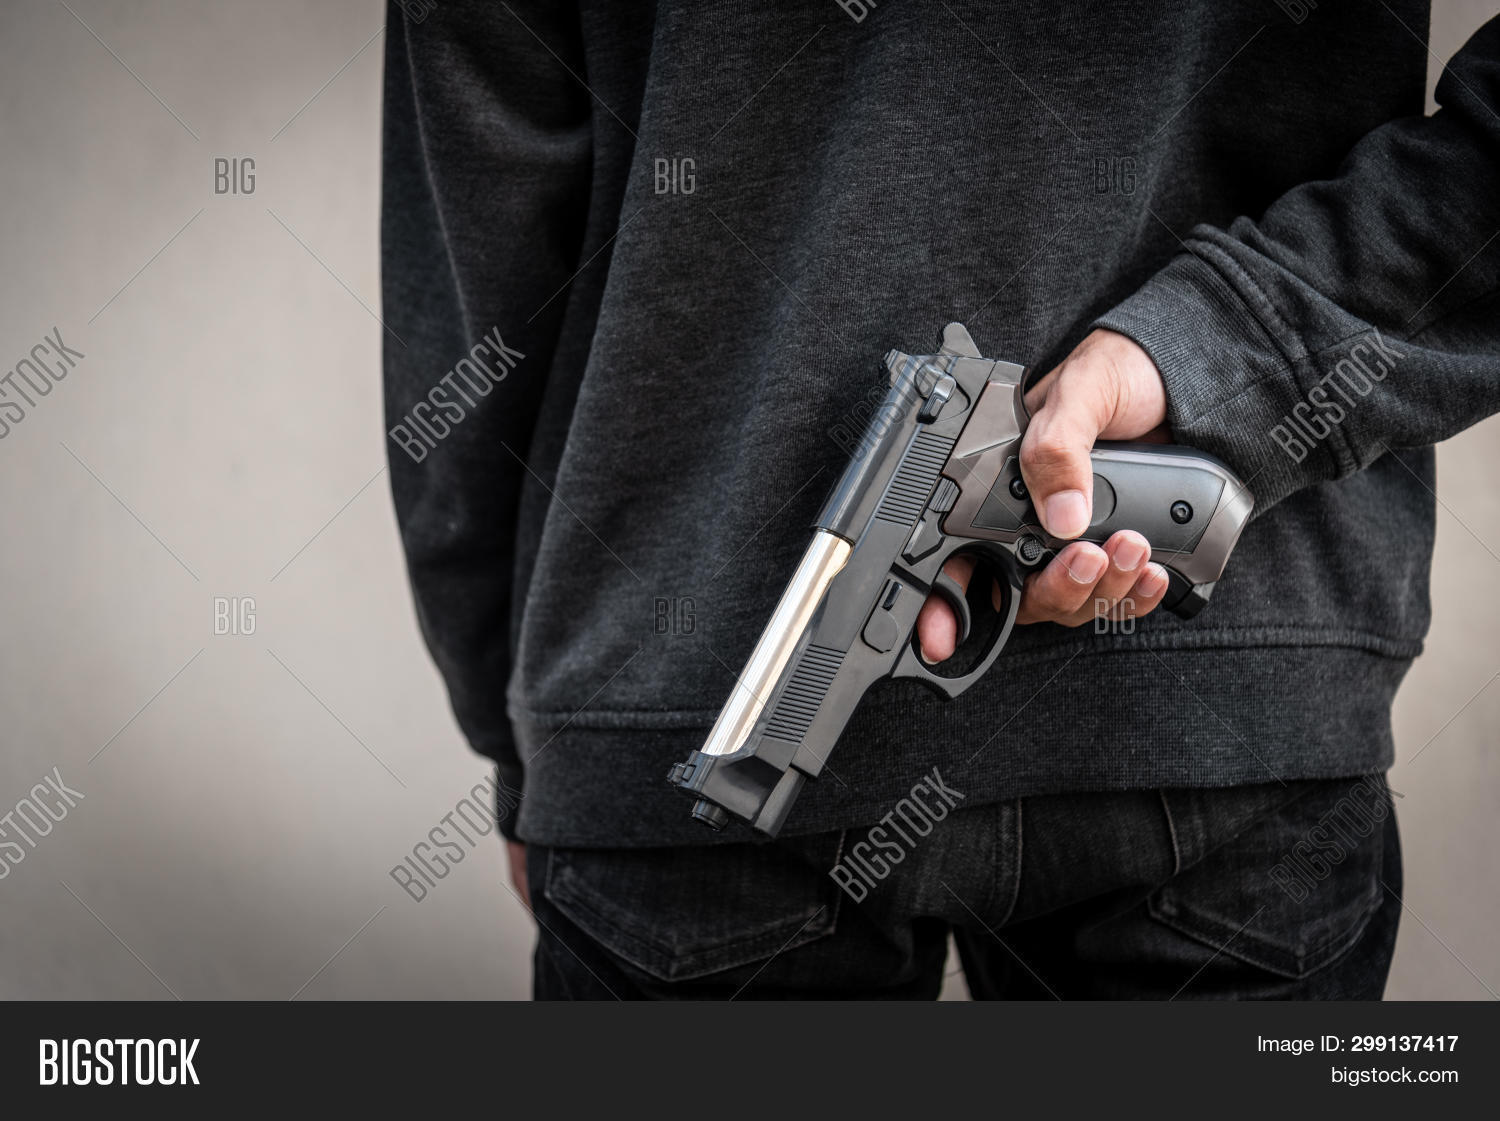gun: (609, 305, 1326, 868)
